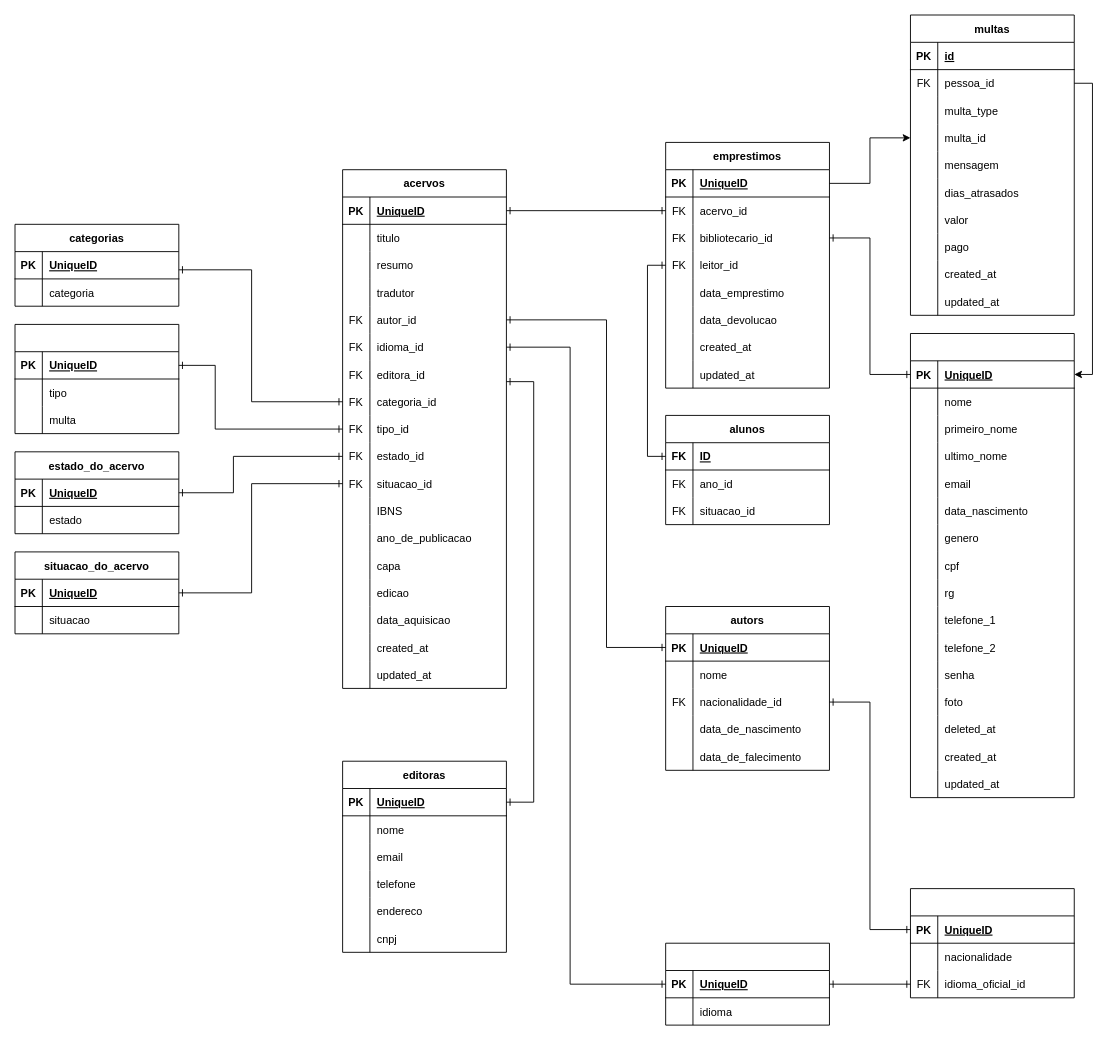
Some shapes in this 1107 by 1040 pixel diagram are drawn without their labels. Here are the shapes that lost their labels. From the top down, the box of each, then its label:
(14, 324, 179, 434): tipo_de_acervo
(910, 333, 1074, 798): pessoas
(910, 888, 1074, 998): nacionalidades
(665, 942, 829, 1025): idiomas
